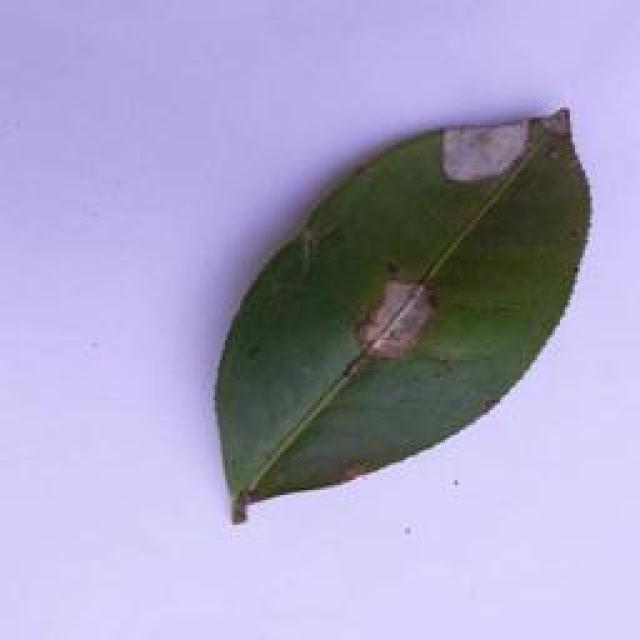Gray Blight: (216, 105, 592, 532)
